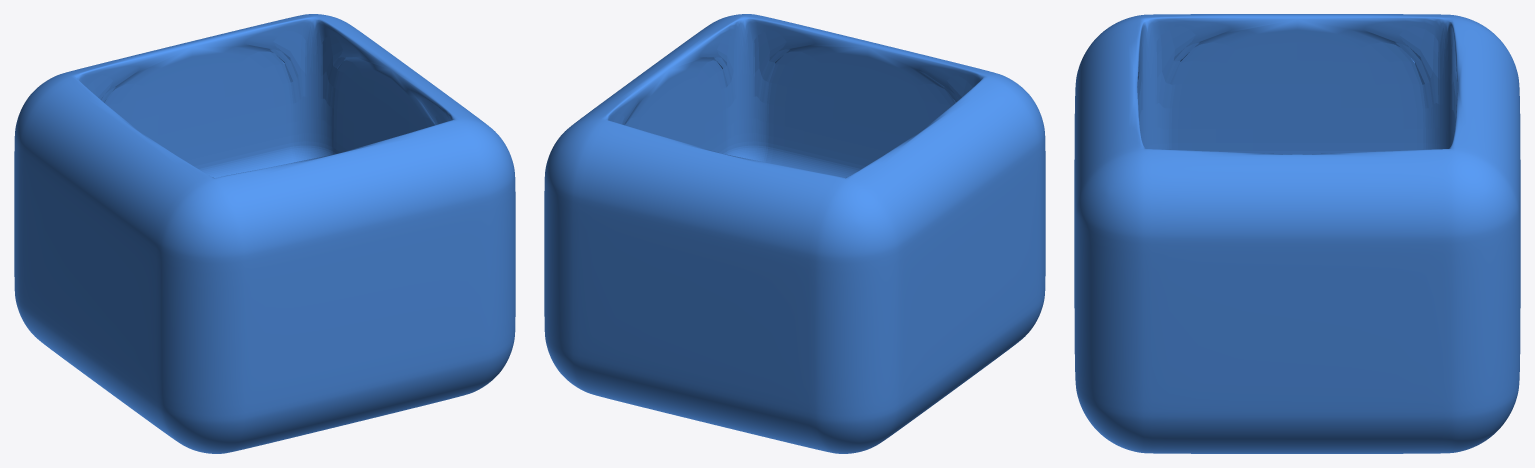
3 views of the same model, side by side, from view 1: azimuth 30°, elevation 25°; view 2: azimuth 150°, elevation 25°; view 3: azimuth 270°, elevation 25° (orthographic). The views are drawn at different scales.
Visible parts, largest first — view 1: BlueBox; view 2: BlueBox; view 3: BlueBox.
Part boxes in pixels (x1,y1,x2,y2): BlueBox: (14, 14, 515, 453); BlueBox: (544, 14, 1045, 453); BlueBox: (1074, 14, 1520, 453).
Size of the model in its own units: 200 by 149 by 200.
